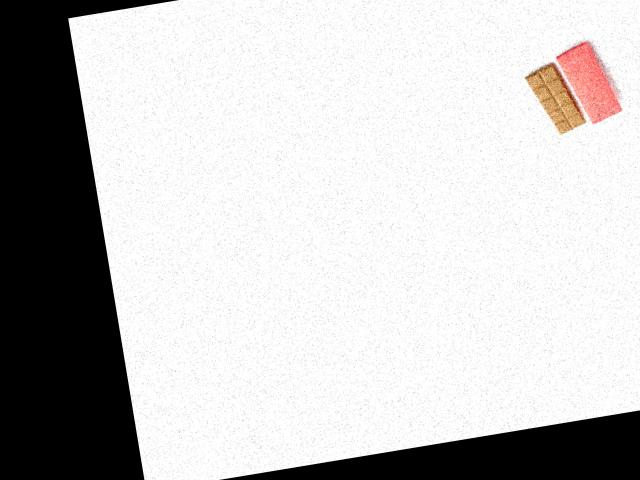chocolate: (522, 55, 591, 140)
